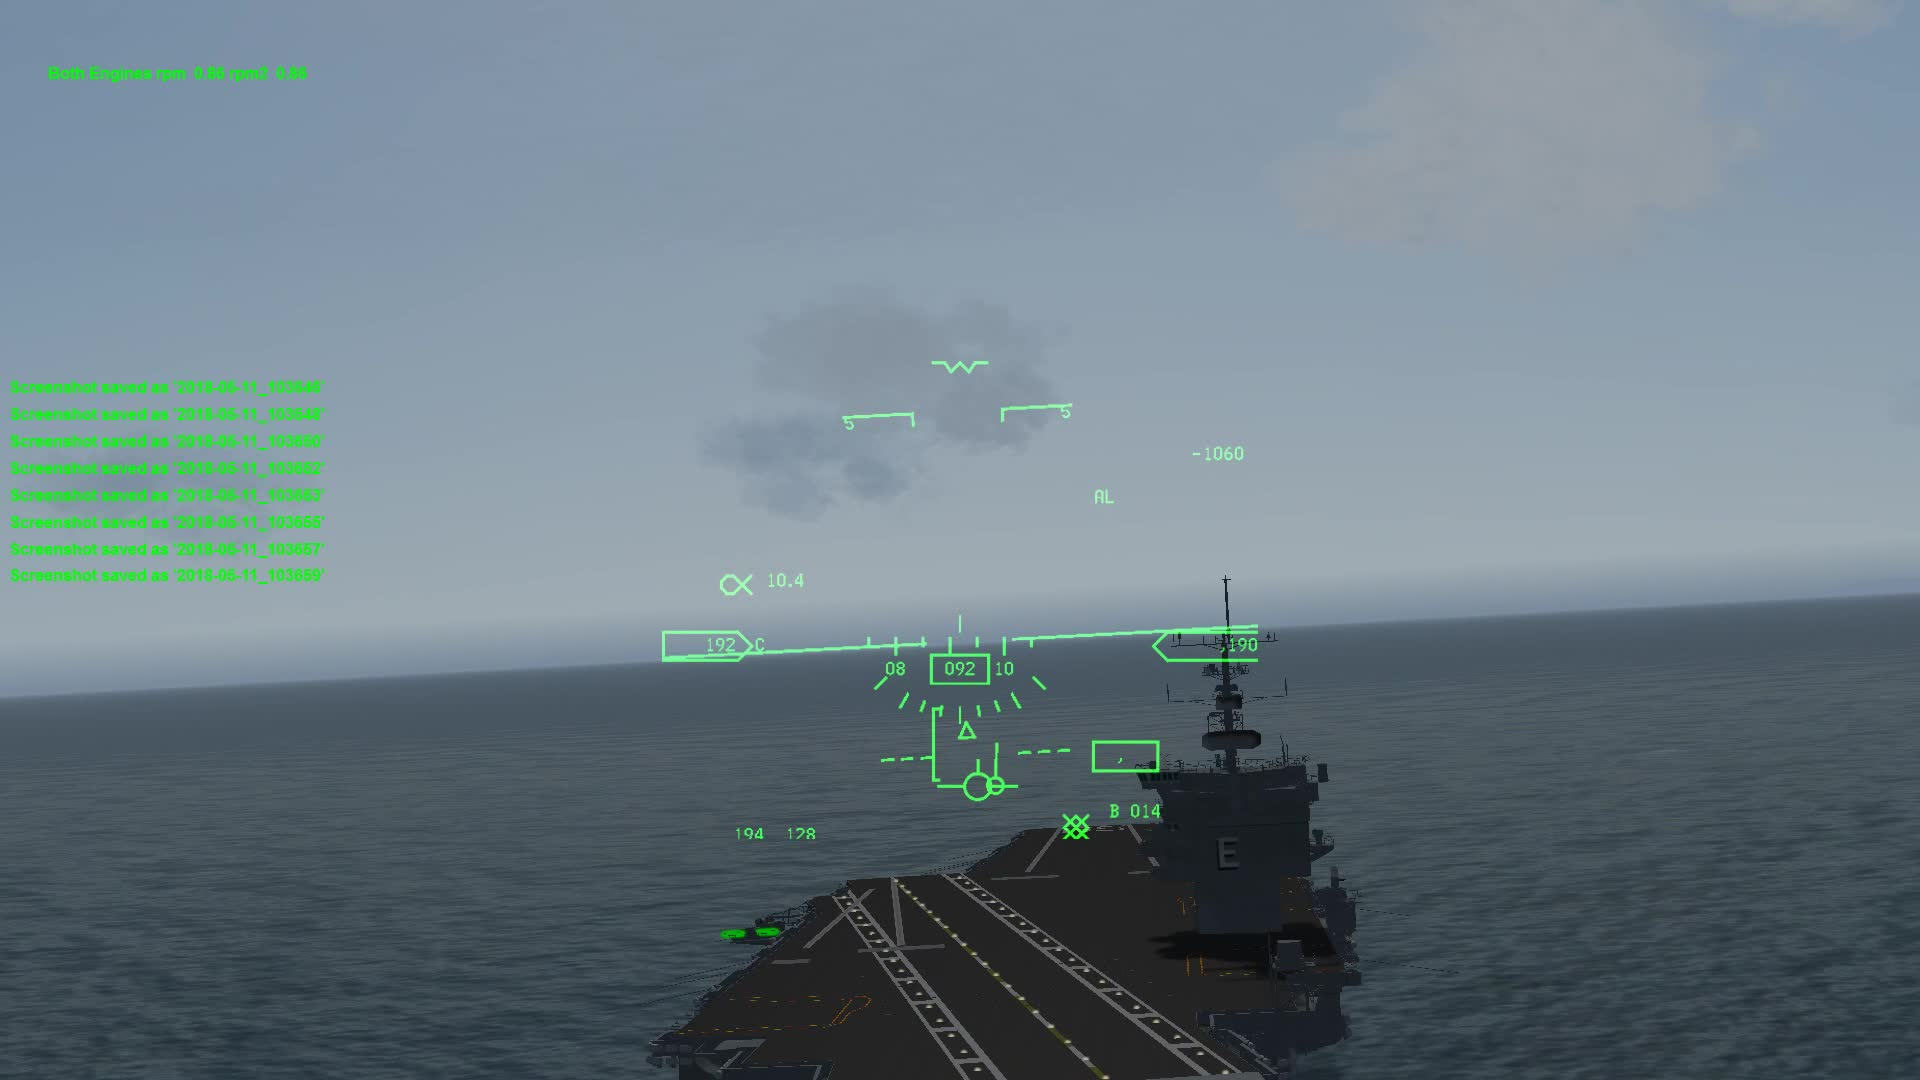speed vector: (940, 753, 1035, 804)
